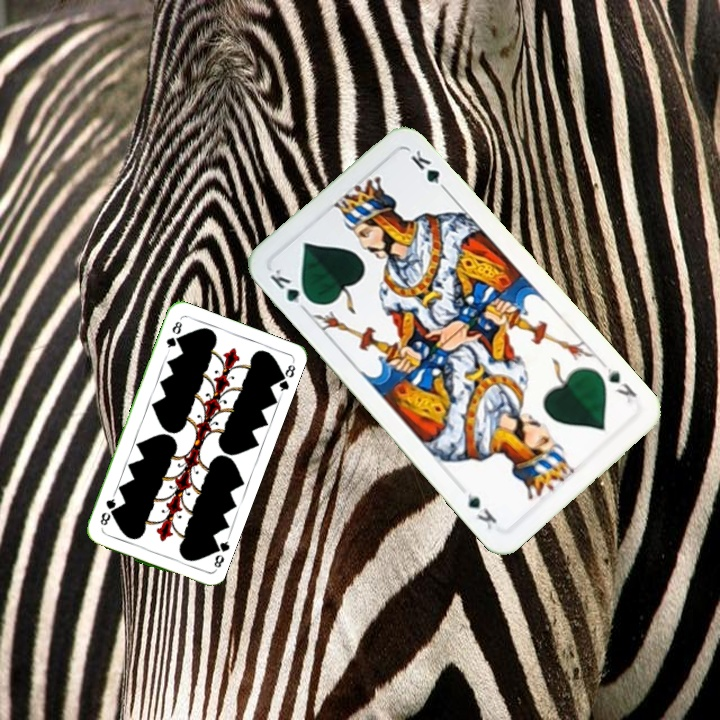G8: (208, 535, 232, 574), (162, 317, 185, 355)
GK: (265, 265, 316, 315), (601, 363, 640, 407)
